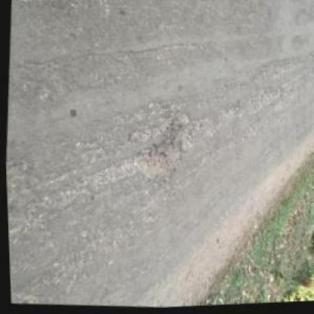Hueco: (130, 134, 183, 186)
